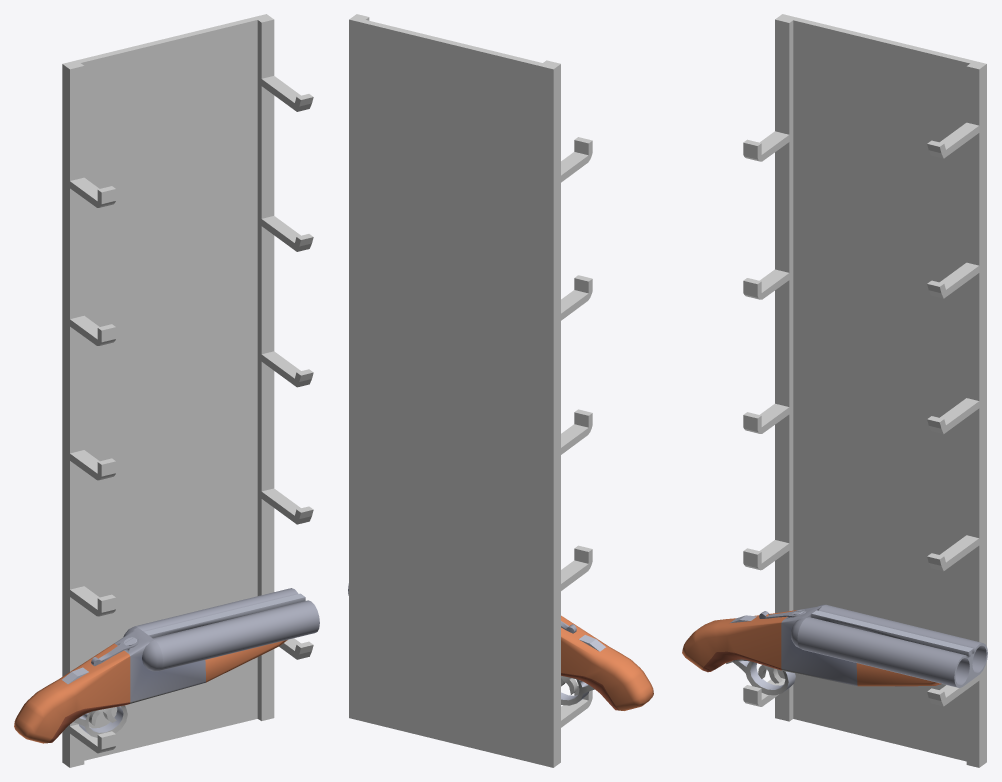
File: shotgun rack.fbx
3 renders of one model, left to right at view 1: azimuth 30°, elevation 25°; view 2: azimuth 150°, elevation 25°; view 3: azimuth 330°, elevation 25°, orthographic.
Visible parts, largest first — view 1: Shotgun Rack, prop_shotgun_geo; view 2: Shotgun Rack, prop_shotgun_geo; view 3: Shotgun Rack, prop_shotgun_geo.
Part boxes in pixels (x1,y1,x2,y2): Shotgun Rack: (62, 14, 313, 767); prop_shotgun_geo: (14, 588, 319, 743); Shotgun Rack: (349, 14, 592, 767); prop_shotgun_geo: (348, 583, 653, 710); Shotgun Rack: (743, 14, 986, 767); prop_shotgun_geo: (682, 604, 987, 695).
Bounding box in the file's own units: 1.7 × 4.01 × 0.489.
